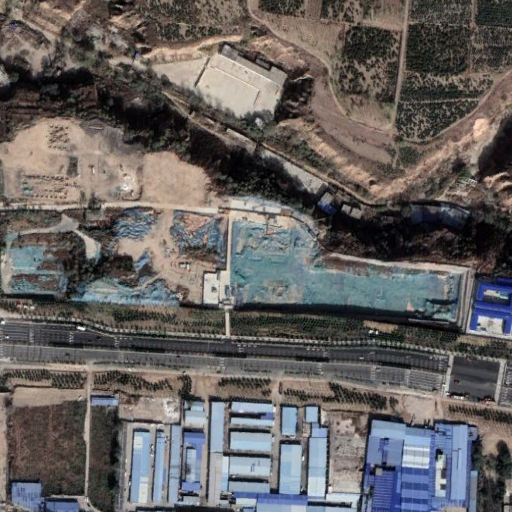cw: (8, 207, 469, 331)
